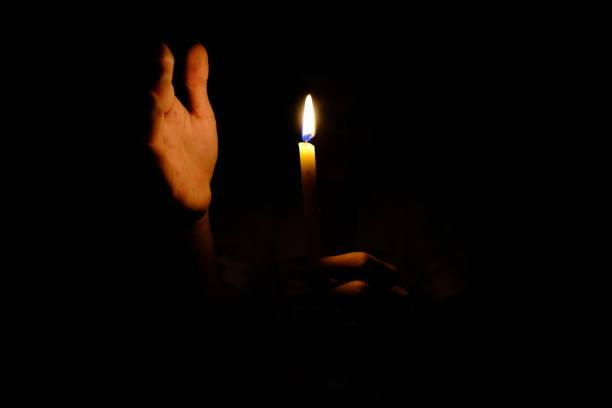Fire: (298, 90, 320, 144)
